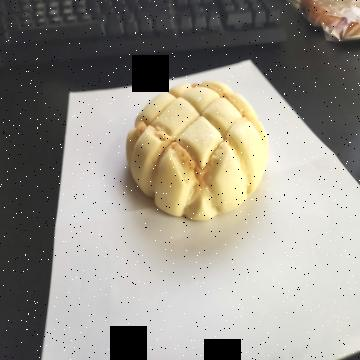melon_bread: (126, 80, 271, 222)
